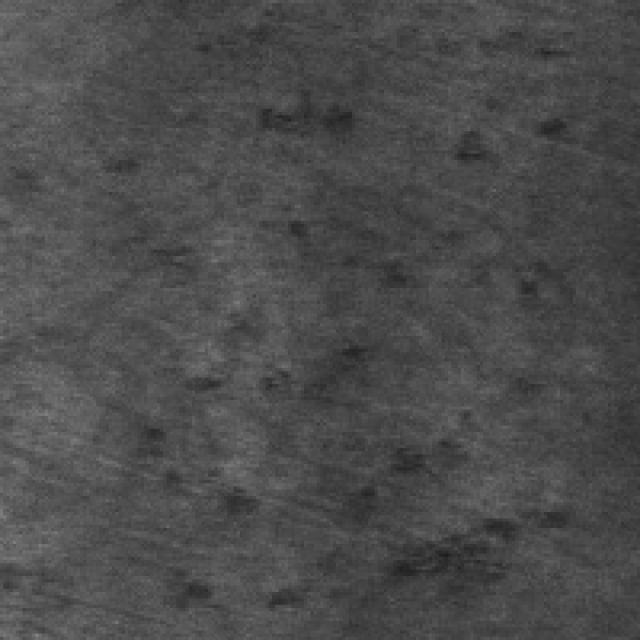rolled-in_scale: (224, 397, 582, 611)
